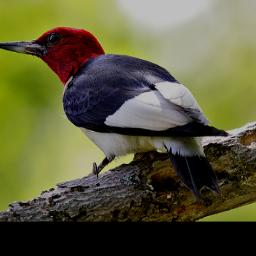Woodpecker: (0, 28, 228, 202)
